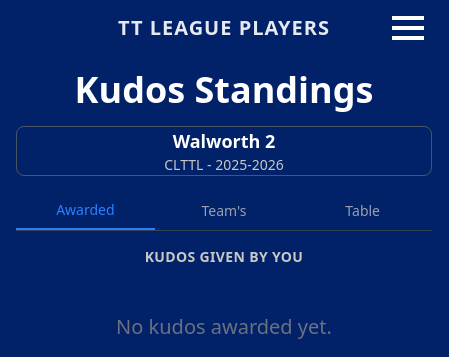
Scenario: KudosStandings info modal › shows a load error for the Team's tab
The image size is (449, 357).
Expected: the text "No kudos awarded yet." is shown, [116,313,332,340]
Click the button "Team's": coordinates (224, 211) [155,192,293,230]
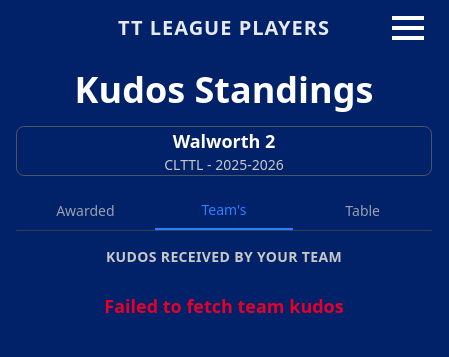
Expected: the text "Failed to fetch team kudos" is shown, [104,294,344,318]
